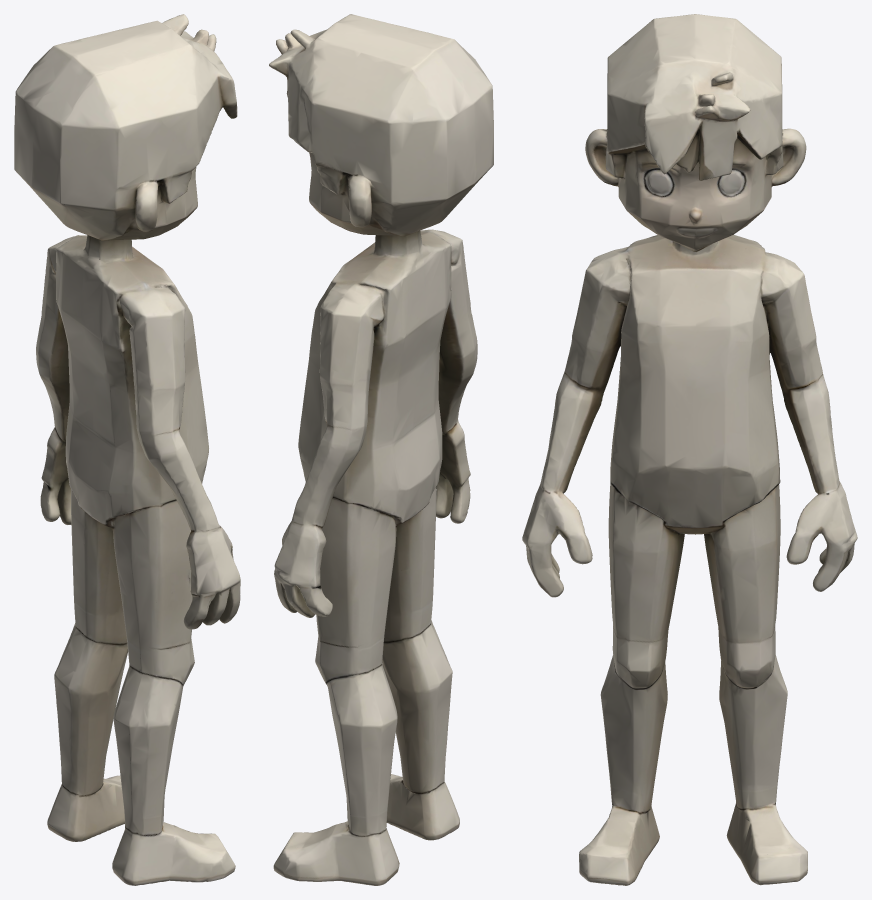
The model's file is npc-child.glb.
3 renders of one model, left to right at view 1: azimuth 30°, elevation 25°; view 2: azimuth 150°, elevation 25°; view 3: azimuth 270°, elevation 25°, orthographic.
Parts seen in each view (by area): view 1: tripo_node_5f4f2781-2238-42da-923e-f3936ae06884; view 2: tripo_node_5f4f2781-2238-42da-923e-f3936ae06884; view 3: tripo_node_5f4f2781-2238-42da-923e-f3936ae06884.
Boxes of the visible parts, <box> form: tripo_node_5f4f2781-2238-42da-923e-f3936ae06884: <box>14,14,240,885</box>; tripo_node_5f4f2781-2238-42da-923e-f3936ae06884: <box>269,14,493,885</box>; tripo_node_5f4f2781-2238-42da-923e-f3936ae06884: <box>522,14,857,885</box>.
Bounding box in the file's own units: 0.345 × 1.4 × 0.5201.
1 material, 1 textured.
